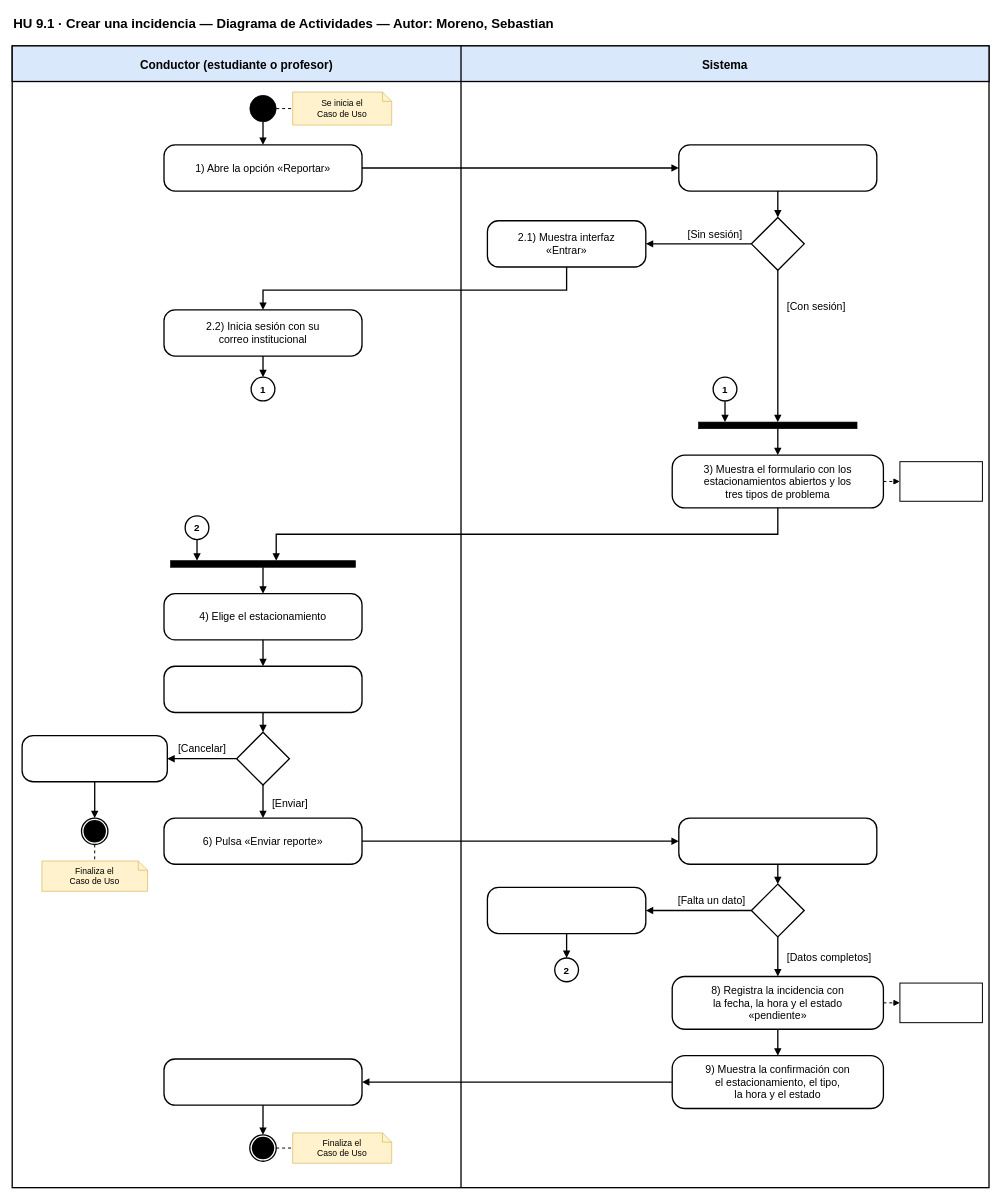
Some shapes in this 1001 by 1200 pixel diagram are drawn without their labels. The shapes that lost their labels are listed below. From the top down, each one's box as (x1, y1, x2, y2) in pixels, then its label:
(678, 144, 877, 191): 2) Verifica la sesión del usuario
(899, 461, 983, 501): «Formulario de incidencia»
(163, 665, 362, 713): 5) Elige el tipo de problema
(21, 735, 168, 782): 6.1) Cierra el formulario sin reportar
(678, 817, 877, 865): 7) Valida el estacionamiento y el tipo de problema
(486, 886, 646, 934): 7.1) Indica qué falta elegir
(899, 982, 983, 1023): Incidencia
(163, 1058, 362, 1106): 10) Lee la confirmación
